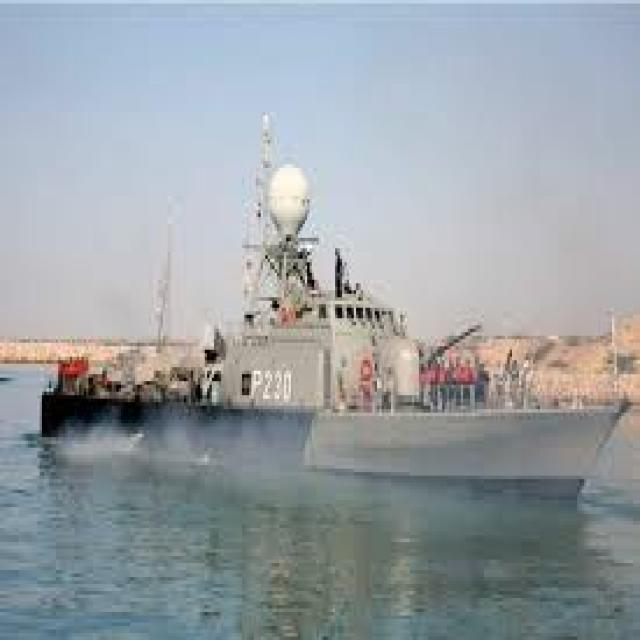navalvessels: (33, 157, 629, 502)
